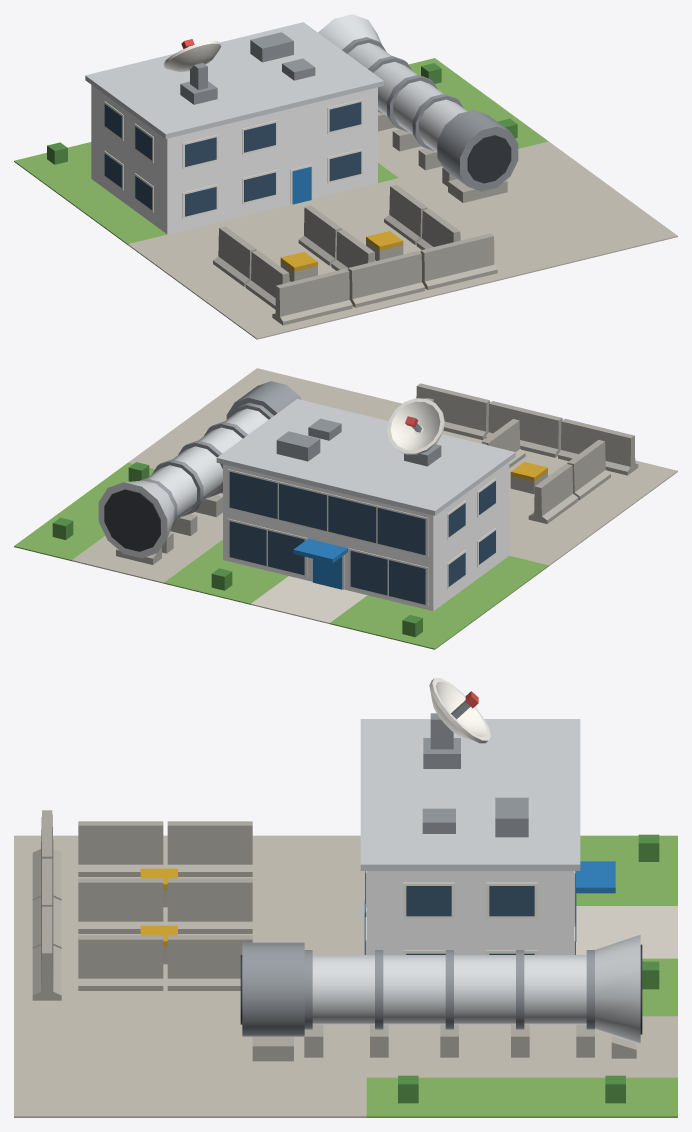
File: militarylab.glb
The picture shows the model from 3 angles, top to bottom: view 1: azimuth 30°, elevation 25°; view 2: azimuth 150°, elevation 25°; view 3: azimuth 270°, elevation 25°; orthographic projection. The views are drawn at different scales.
Parts seen in each view (by area): view 1: test_yard (×2), lab_building, blast_wall (×9), roof, apron, lawn (×2), window_glass (×6), wind_tunnel (×4), fan_housing, vent (×2), intake, tunnel_flange (×2) (+6 smaller); view 2: roof, lawn (×3), window_band (×8), blast_wall (×6), test_yard (×2), lab_building, apron, wind_tunnel (×4), forecourt, band_frame (×3), intake_opening, test_dish (+10 smaller); view 3: test_yard (×2), blast_wall (×9), apron, roof, lawn (×3), wind_tunnel (×4), lab_building, fan_housing, forecourt, intake, tunnel_flange (×5), window_glass (×2) (+7 smaller).
Part boxes in pixels (box(x1,y1,x2,y2)): test_yard (×2): box(128, 141, 677, 339); lab_building: box(91, 85, 377, 234); blast_wall (×9): box(213, 184, 497, 325); roof: box(85, 22, 383, 138); apron: box(378, 127, 619, 273); lawn (×2): box(14, 58, 548, 244); window_glass (×6): box(185, 102, 361, 216); wind_tunnel (×4): box(347, 43, 467, 152); fan_housing: box(437, 110, 518, 191); vent (×2): box(282, 58, 511, 183); intake: box(318, 14, 380, 49); tunnel_flange (×2): box(387, 75, 463, 150); roof: box(216, 399, 515, 515); lawn (×3): box(14, 462, 548, 649); window_band (×8): box(229, 471, 425, 604); blast_wall (×6): box(416, 383, 638, 523); test_yard (×2): box(128, 368, 677, 565); lab_building: box(223, 462, 509, 611); apron: box(72, 382, 401, 583); wind_tunnel (×4): box(147, 408, 268, 519); forecourt: box(250, 576, 367, 623); band_frame (×3): box(227, 469, 428, 606); intake_opening: box(104, 489, 160, 551); test_dish: box(387, 398, 444, 454); test_yard (×2): box(14, 835, 366, 1117); blast_wall (×9): box(32, 810, 252, 1000); apron: box(14, 1016, 677, 1077); roof: box(360, 719, 580, 870); lawn (×3): box(366, 835, 677, 1117); wind_tunnel (×4): box(312, 955, 586, 1024); lab_building: box(366, 871, 574, 954); fan_housing: box(242, 942, 304, 1036); forecourt: box(576, 906, 677, 958); intake: box(595, 934, 640, 1044); tunnel_flange (×5): box(304, 950, 594, 1029); window_glass (×2): box(406, 886, 534, 916).
Bounding box in the file's own units: 32 × 11.71 × 32.
